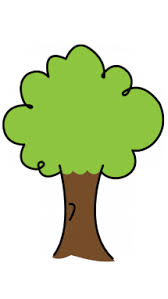tree: (3, 48, 163, 266)
